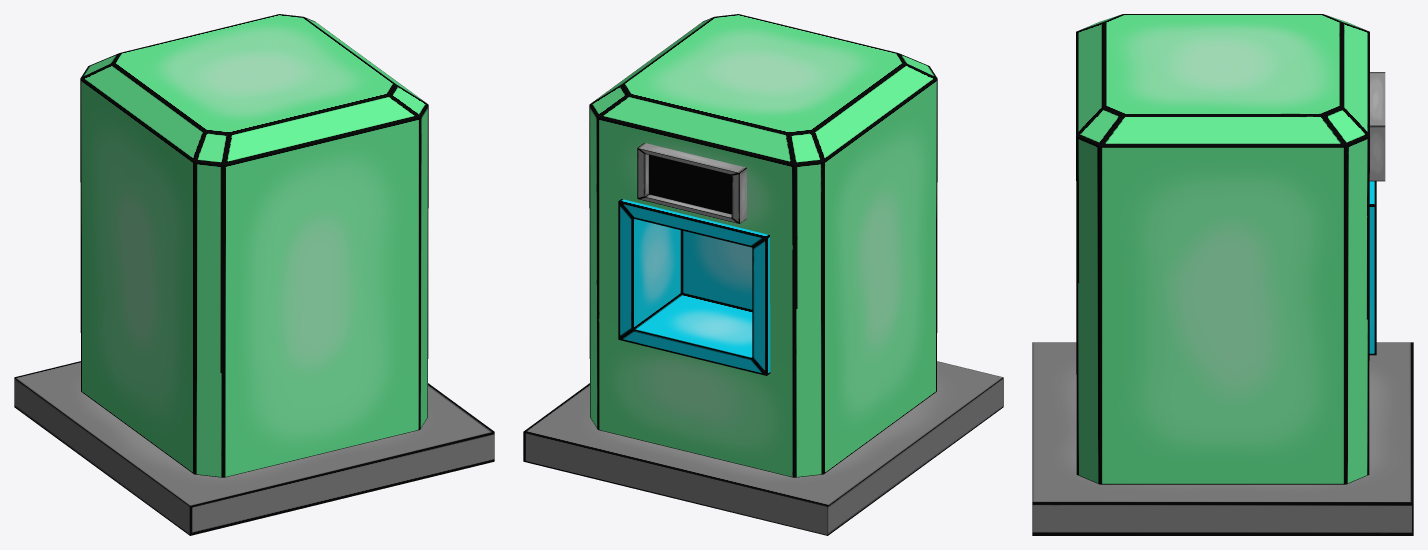
Rendered from UtilityGarbageCollector1.fbx.
3 renders of one model, left to right at view 1: azimuth 30°, elevation 25°; view 2: azimuth 150°, elevation 25°; view 3: azimuth 270°, elevation 25°, orthographic. The views are drawn at different scales.
Parts seen in each view (by area): view 1: UtilityGarbageCollectorMain_Mesh, UtilityGarbageCollectorBase_Mesh; view 2: UtilityGarbageCollectorMain_Mesh, UtilityGarbageCollectorBase_Mesh, HollowCube_Mesh, BoxLabe_Mesh; view 3: UtilityGarbageCollectorMain_Mesh, UtilityGarbageCollectorBase_Mesh, BoxLabe_Mesh, HollowCube_Mesh.
Boxes of the visible parts, x1,y1,x2,y2 form: UtilityGarbageCollectorMain_Mesh: (80,14,428,477); UtilityGarbageCollectorBase_Mesh: (14,361,494,535); UtilityGarbageCollectorMain_Mesh: (589,14,937,477); UtilityGarbageCollectorBase_Mesh: (523,361,1003,535); HollowCube_Mesh: (618,199,770,375); BoxLabe_Mesh: (637,143,746,223); UtilityGarbageCollectorMain_Mesh: (1076,14,1369,484); UtilityGarbageCollectorBase_Mesh: (1032,342,1413,535); BoxLabe_Mesh: (1369,72,1385,181); HollowCube_Mesh: (1369,181,1376,355).
Bounding box in the file's own units: 200 × 227 × 200.
